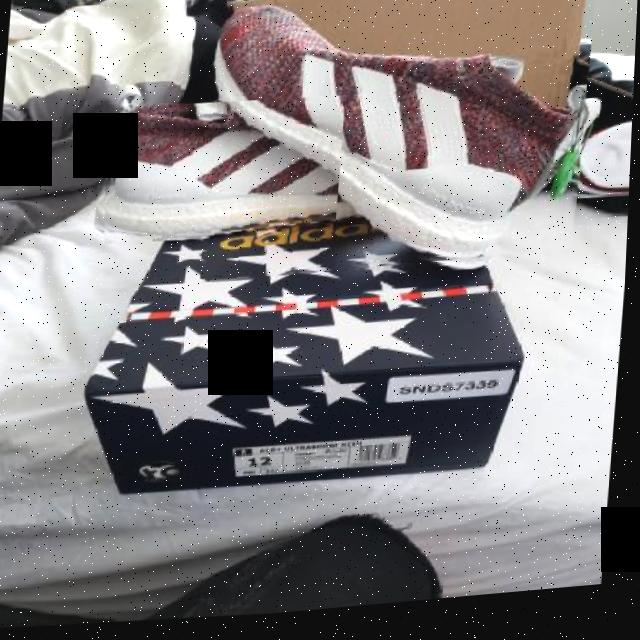shoe: (202, 0, 597, 300), (97, 93, 347, 254)
